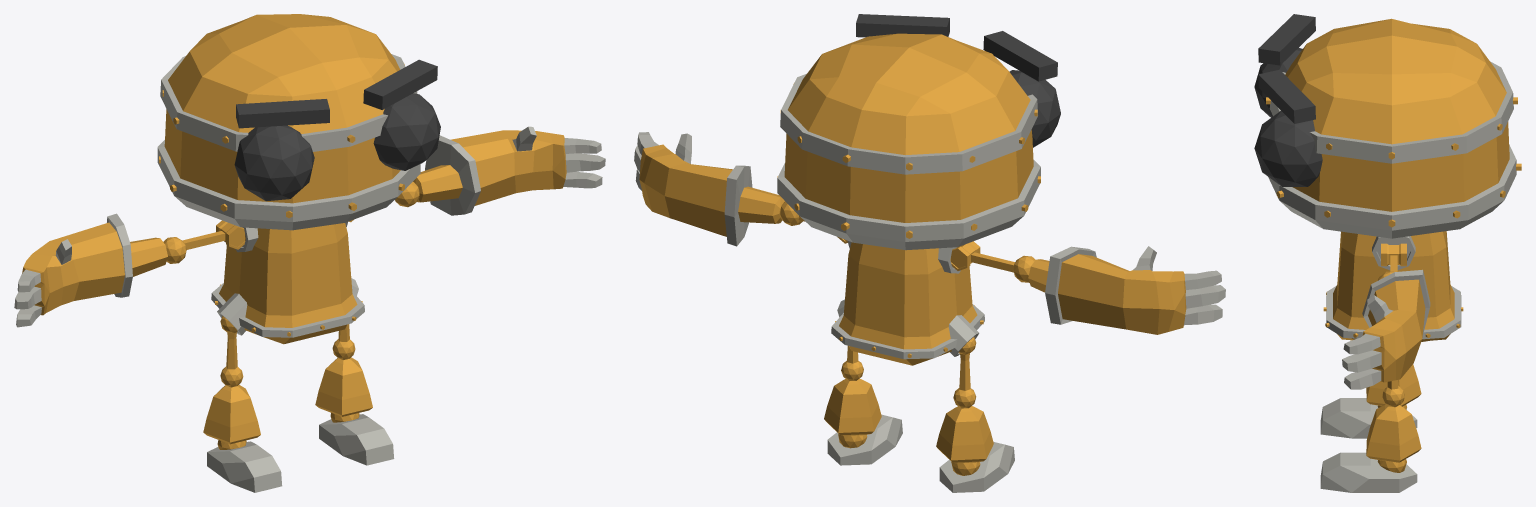
The model's file is RobotGuancho.fbx.
3 renders of one model, left to right at view 1: azimuth 30°, elevation 25°; view 2: azimuth 150°, elevation 25°; view 3: azimuth 270°, elevation 25°, orthographic.
Visible parts, largest first — view 1: Head, Torso, Hand.L, Hand.R, LowerLeg.R, LowerLeg.L, Foot.R, Foot.L, Arm.R, Leg.R; view 2: Head, Torso, Hand.R, Hand.L, LowerLeg.R, LowerLeg.L, Foot.R, Foot.L, Arm.R, Leg.R; view 3: Head, Torso, Hand.L, Foot.L, LowerLeg.L, Foot.R, LowerLeg.R, Shoulder.L, Leg.L.
Part boxes in pixels (x1,y1,x2,y2): Head: (157,14,440,230); Torso: (211,222,364,344); Hand.L: (413,126,605,215); Hand.R: (14,213,167,327); LowerLeg.R: (203,385,260,449); LowerLeg.L: (315,357,372,422); Foot.R: (207,441,282,492); Foot.L: (319,414,394,465); Arm.R: (163,231,225,263); Leg.R: (220,332,243,387); Head: (777,14,1060,250); Torso: (831,240,984,365); Hand.R: (1028,246,1225,334); Hand.L: (634,132,784,246); LowerLeg.R: (936,406,993,475); LowerLeg.L: (824,378,881,448); Foot.R: (939,442,1014,492); Foot.L: (827,414,902,465); Arm.R: (971,252,1035,282); Leg.R: (953,353,976,408); Head: (1254,14,1521,238); Torso: (1323,231,1463,341); Hand.L: (1342,269,1430,389); Foot.L: (1320,452,1417,492); LowerLeg.L: (1366,404,1421,472); Foot.R: (1320,398,1417,438); LowerLeg.R: (1366,364,1421,409); Shoulder.L: (1381,243,1406,266); Leg.L: (1382,380,1404,407).
Size of the model in its own units: 662 by 453 by 262.
